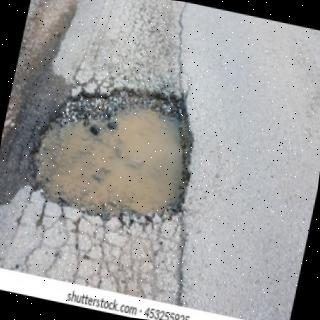pothole: (37, 91, 194, 223)
